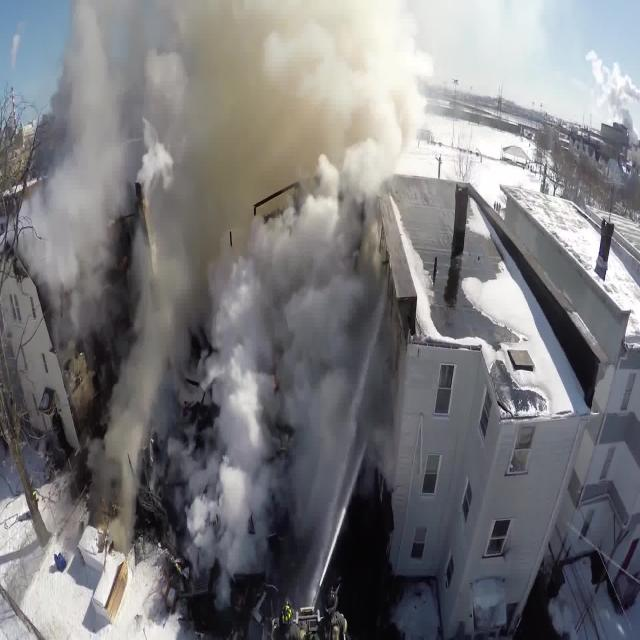smoke: (96, 30, 359, 522)
